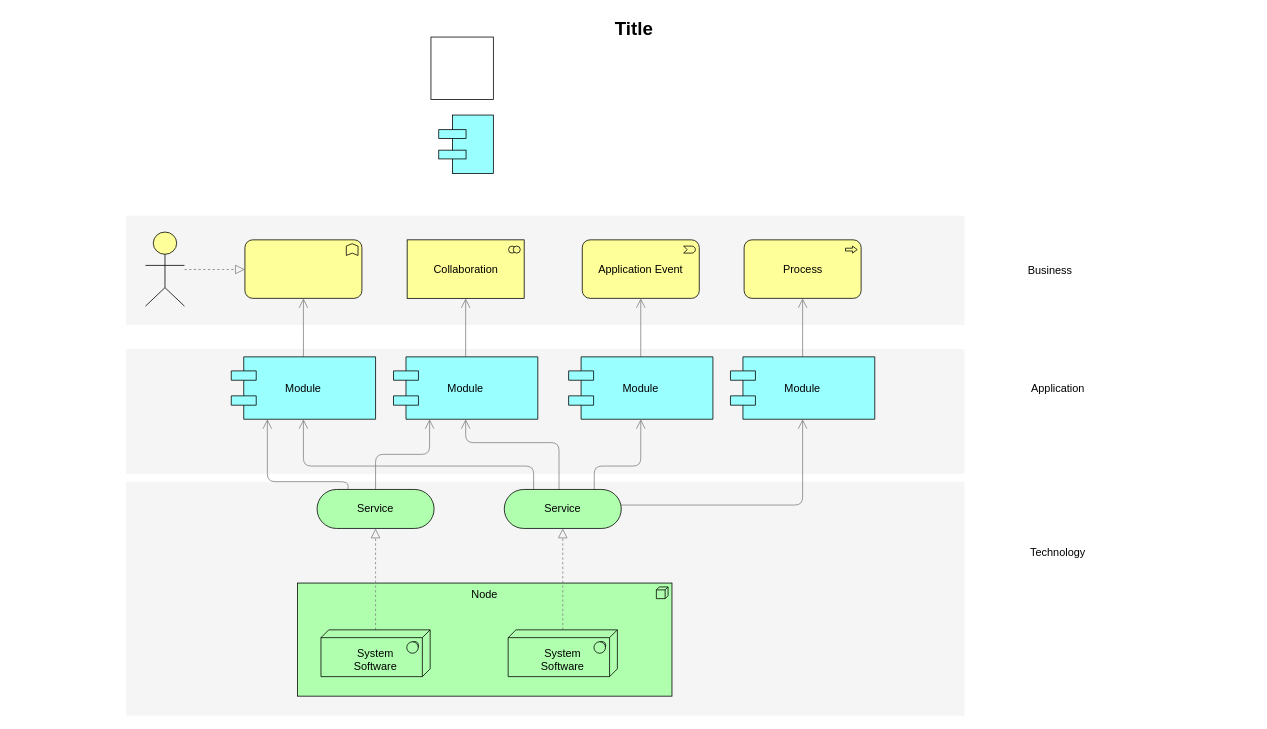
Some shapes in this 1267 by 729 pixel diagram are drawn without their labels. Here are the shapes that lost their labels. From the top down, the centre of each, then its label:
point 461,67: DZIALA LETS GO
point 465,144: DZIAŁA GIT
point 303,268: Function
